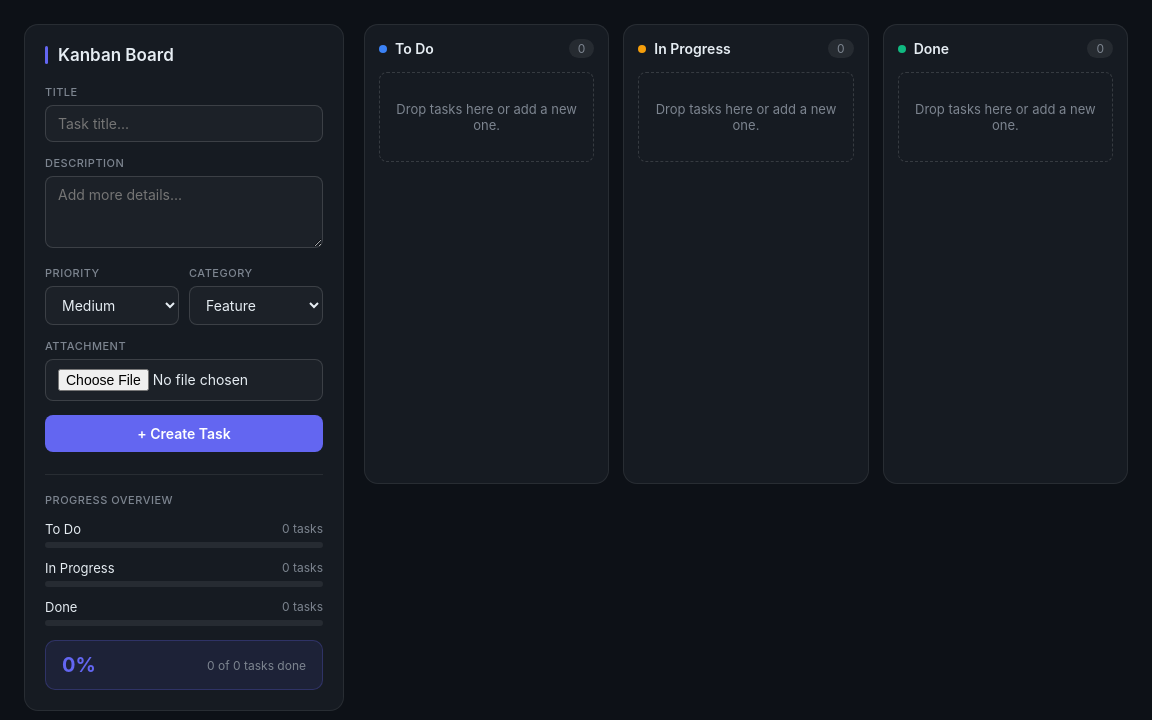
Test case: creates a new task from the form
Type "Test task" into the field labelled "Title".
click(184, 124); type("Test task")  # box [45, 105, 323, 142]
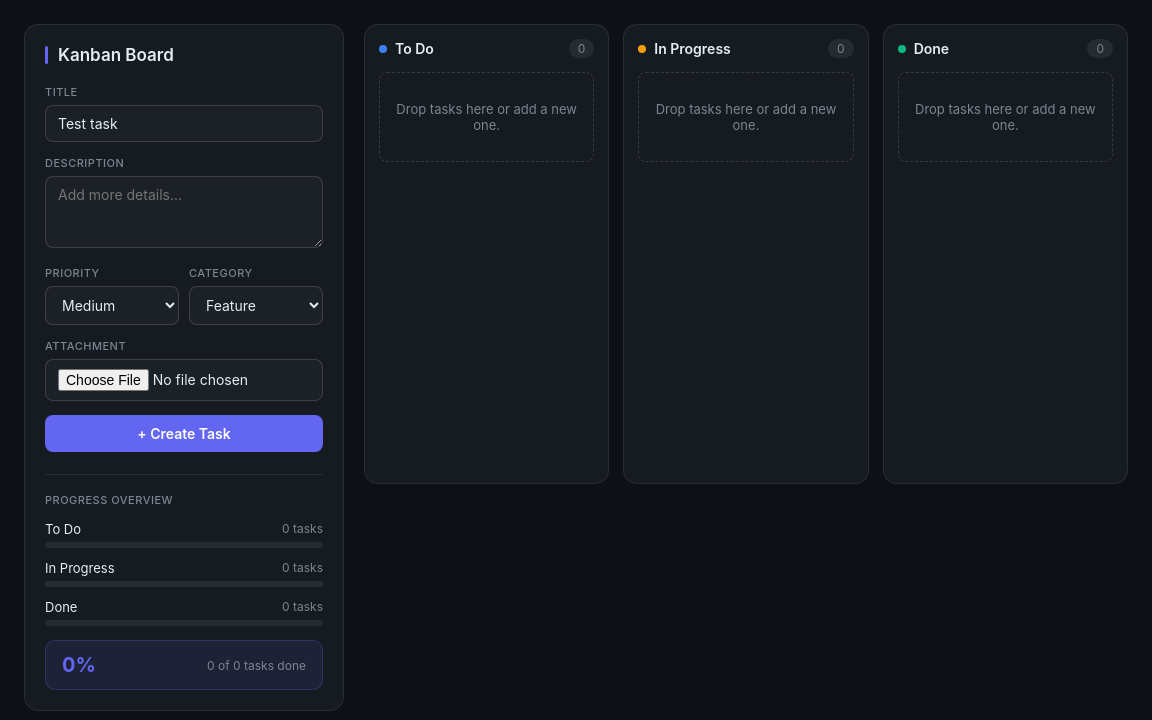
Type "A sample task for testing." into the text box labelled "Description".
click(184, 212); type("A sample task for testing.")  # box [45, 176, 323, 248]
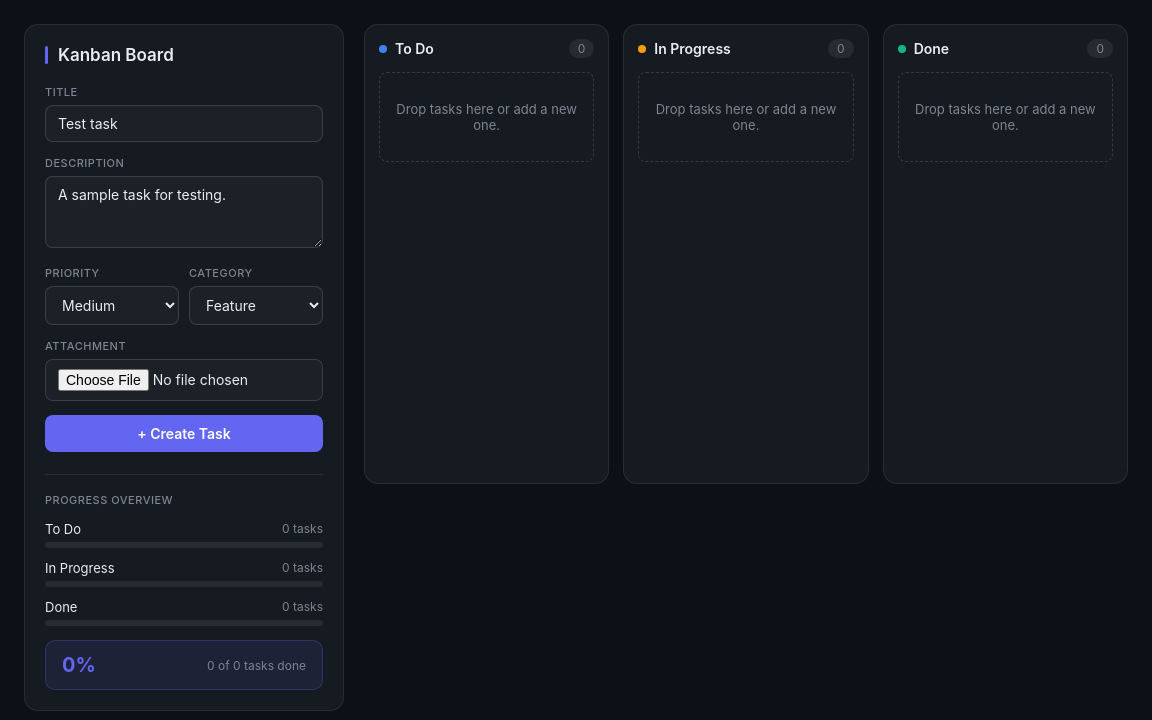
Select "High" in the dropdown labelled "Priority" at (112, 306), box [45, 286, 179, 325]
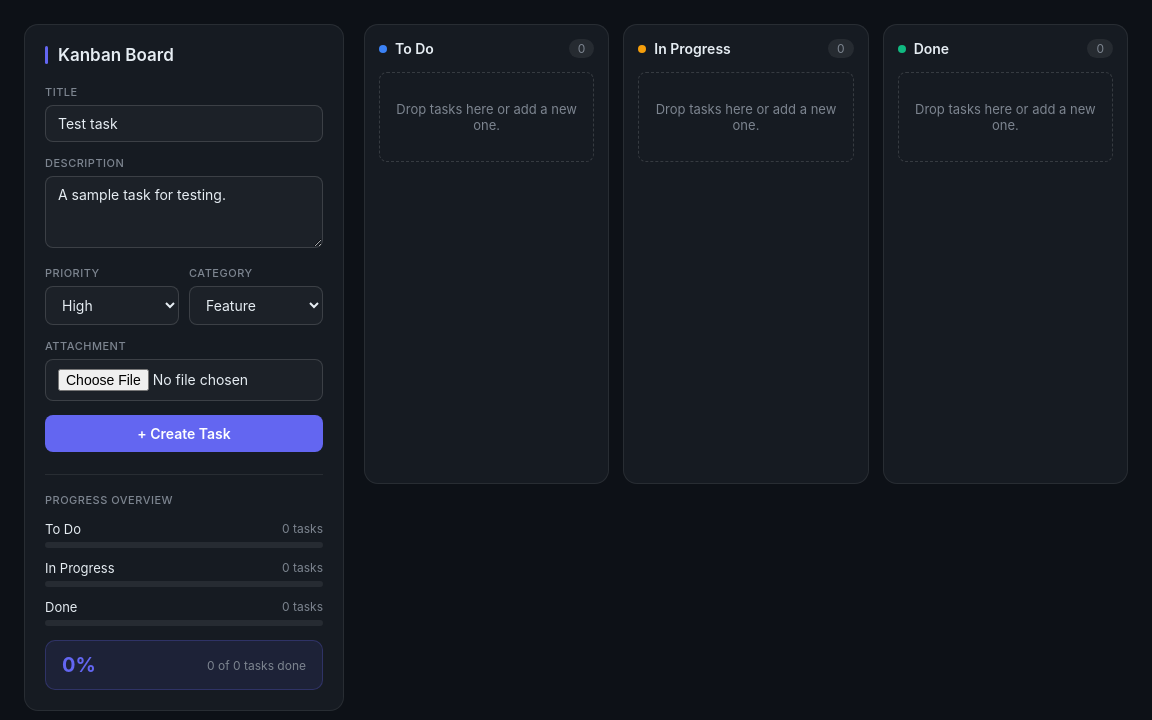
Select "Bug" in the dropdown labelled "Category" at (256, 306), box [189, 286, 323, 325]
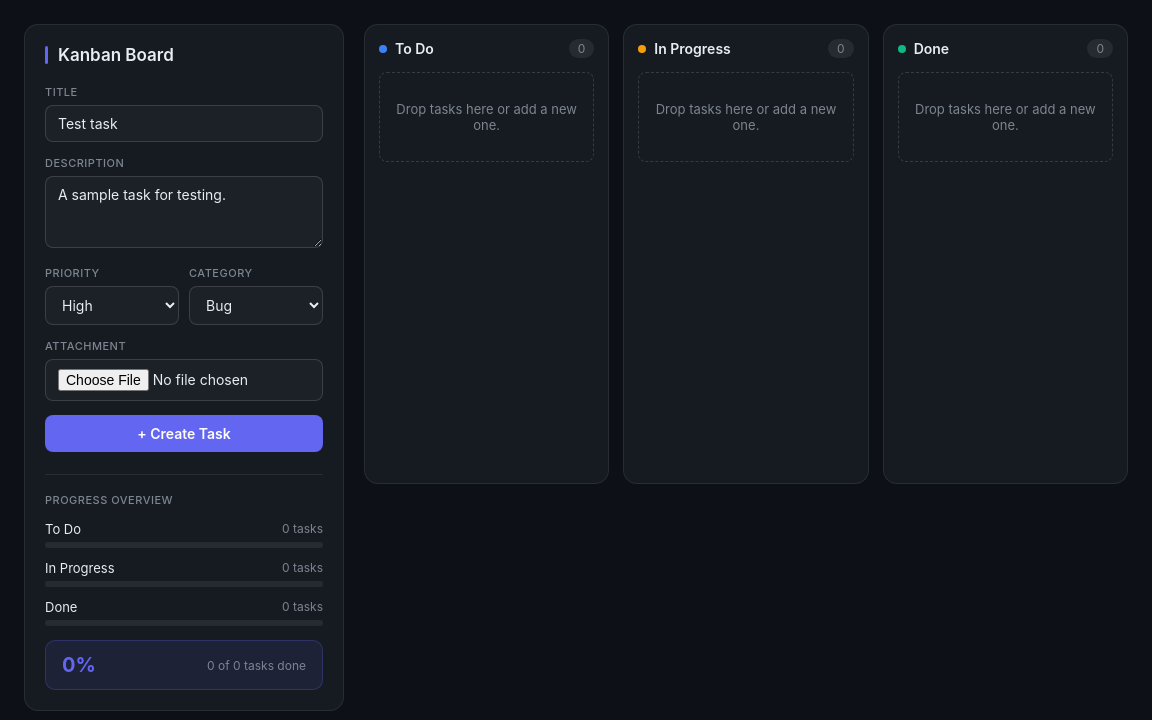
Click the button "+ Create Task".
click(184, 434)  # box [45, 415, 323, 452]
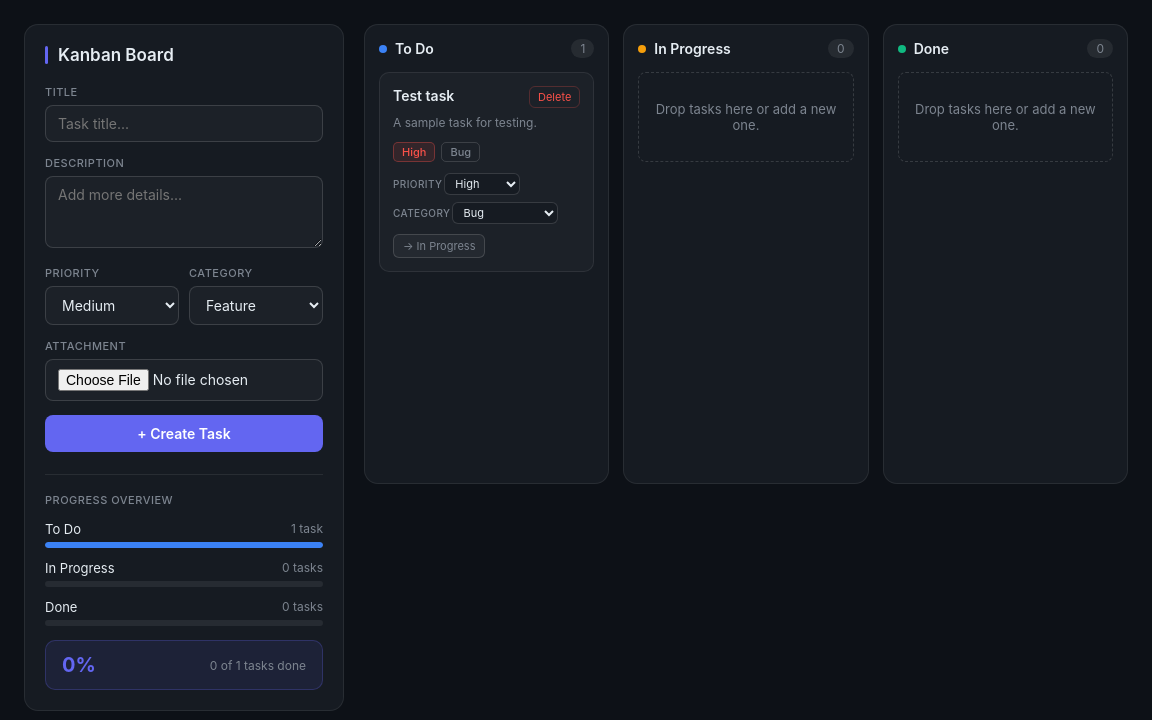
Now the heading "Test task" is shown, box [393, 86, 454, 106]
Now the text "A sample task for testing." is shown, box [393, 115, 537, 130]
